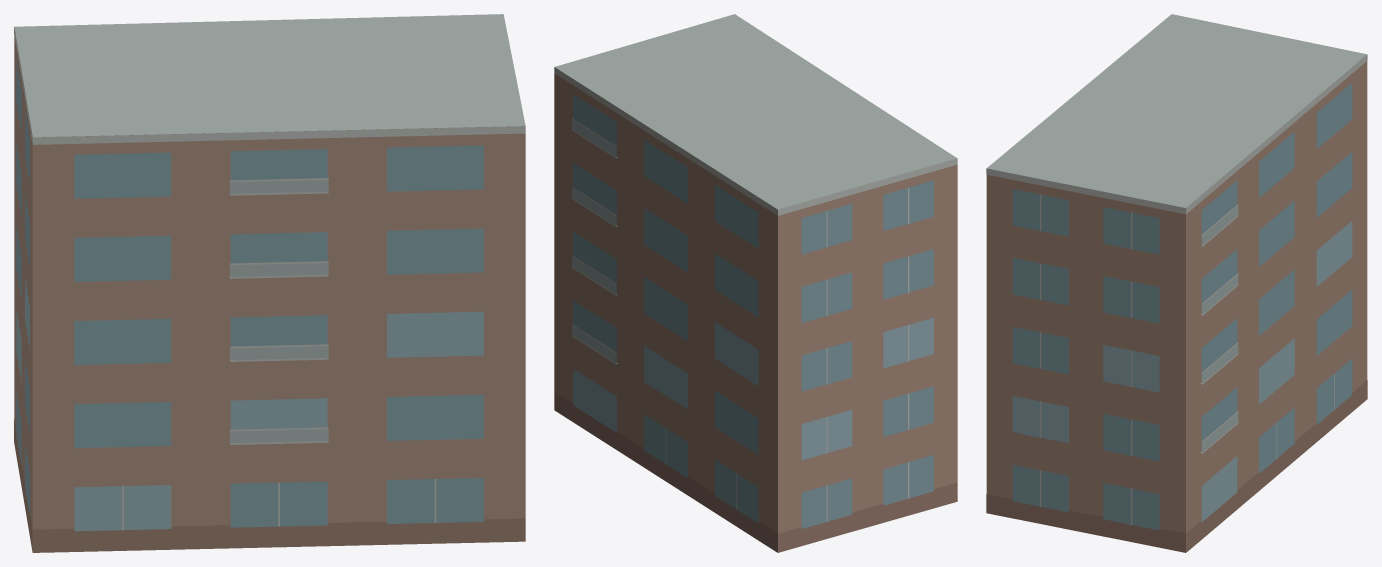
Rendered from survey-upis-32852741.glb.
3 views of the same model, side by side, from view 1: azimuth 30°, elevation 25°; view 2: azimuth 150°, elevation 25°; view 3: azimuth 270°, elevation 25° (orthographic). The views are drawn at different scales.
Parts seen in each view (by area): view 1: survey-upis-32852741.tmp; view 2: survey-upis-32852741.tmp; view 3: survey-upis-32852741.tmp.
Part boxes in pixels (x1,y1,x2,y2): survey-upis-32852741.tmp: (14,14,525,552); survey-upis-32852741.tmp: (554,14,957,552); survey-upis-32852741.tmp: (986,14,1367,552).
Bounding box in the file's own units: 16.19 × 13.4 × 13.43.
